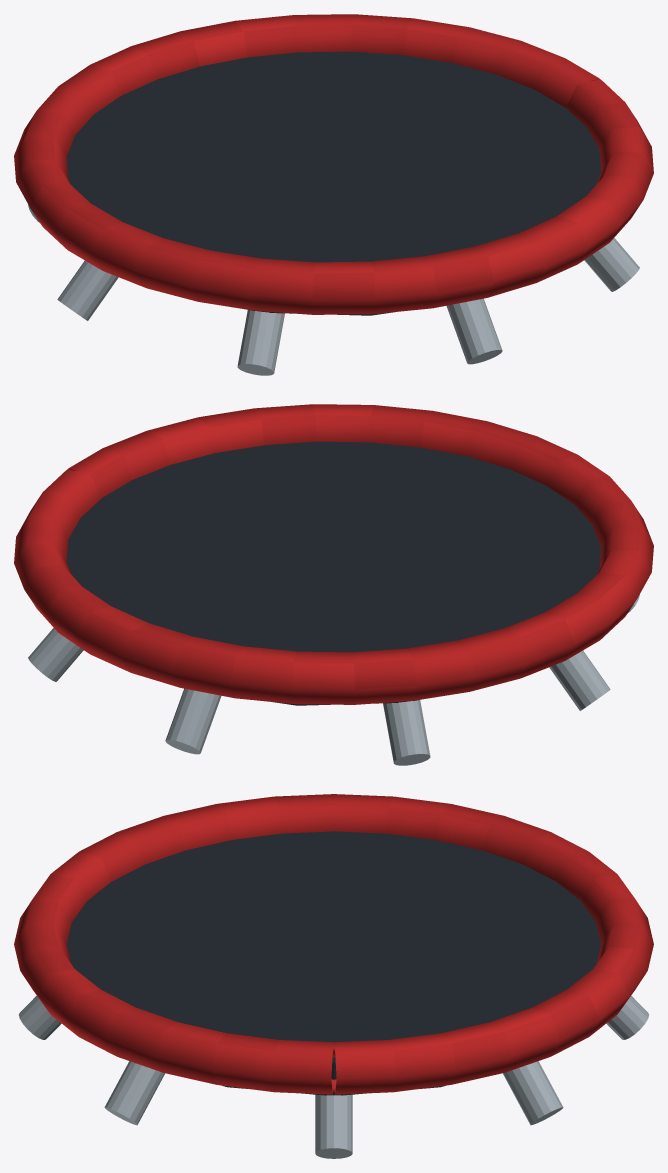
File: trampoline-popper.glb
3 renders of one model, top to bottom at view 1: azimuth 30°, elevation 25°; view 2: azimuth 150°, elevation 25°; view 3: azimuth 270°, elevation 25°, orthographic.
Visible parts, largest first — view 1: folded spring bed; view 2: folded spring bed; view 3: folded spring bed.
Boxes of the visible parts, <box> form: folded spring bed: <box>14,14,653,375</box>; folded spring bed: <box>14,404,653,765</box>; folded spring bed: <box>14,794,653,1158</box>.
Size of the model in its own units: 0.8498 by 0.1669 by 0.85.
